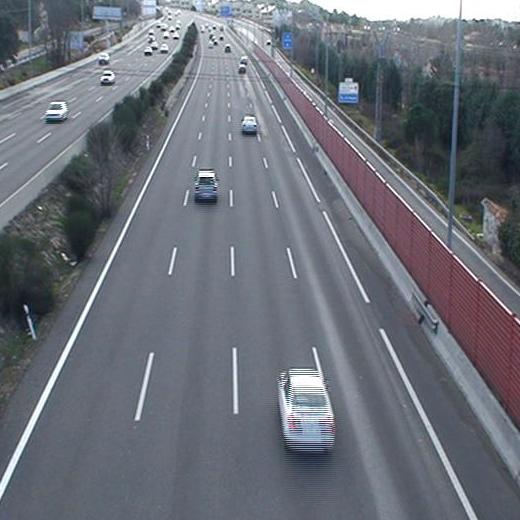car: (279, 371, 337, 453), (194, 170, 218, 202), (241, 115, 258, 133), (238, 64, 248, 74)
